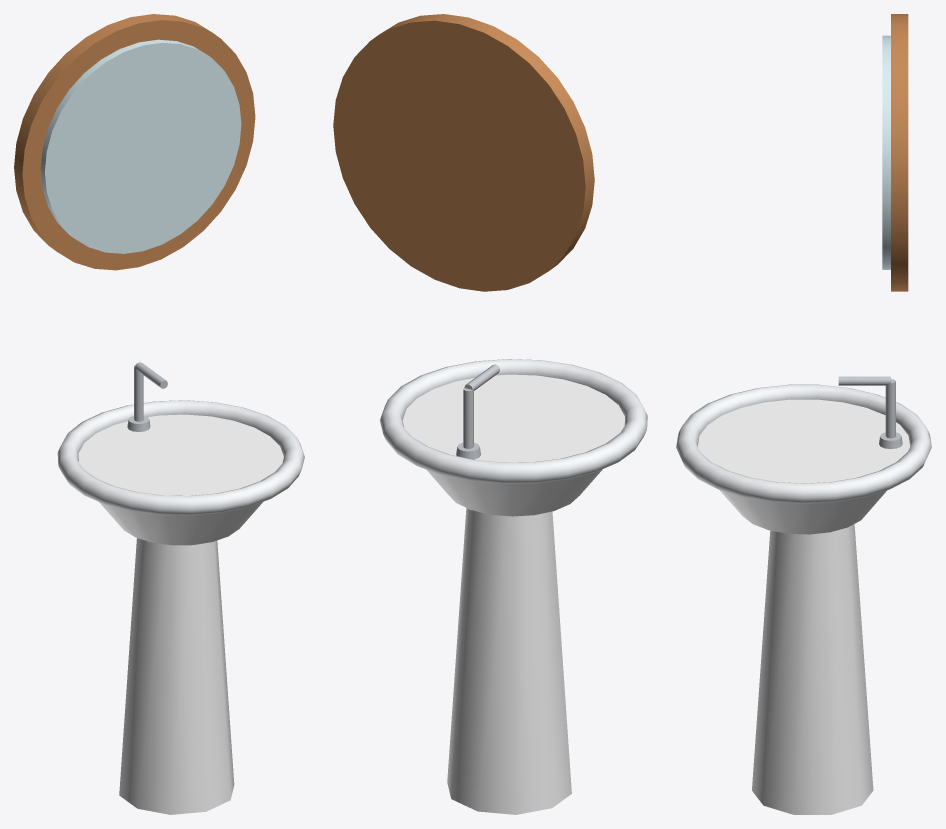
File: vanity-pedestal.glb
3 views of the same model, side by side, from view 1: azimuth 30°, elevation 25°; view 2: azimuth 150°, elevation 25°; view 3: azimuth 270°, elevation 25° (orthographic). The views are drawn at different scales.
Bounding box in the file's own units: 0.64 × 1.94 × 0.5888.
